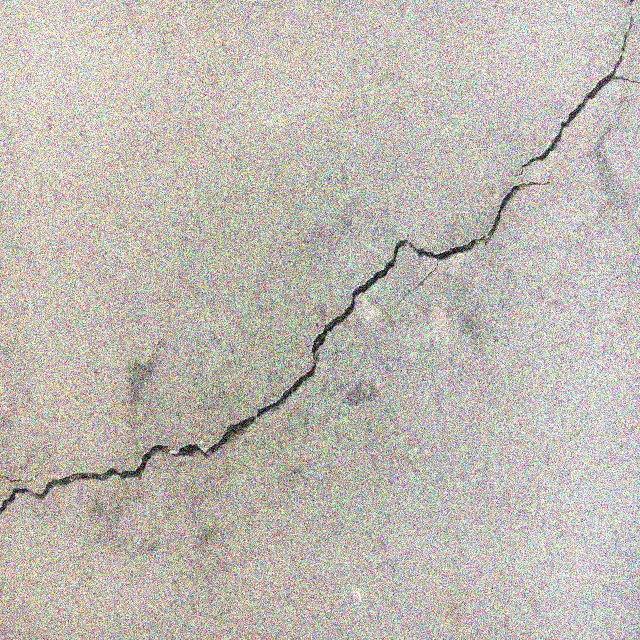SurfaceCrack: (1, 0, 639, 591)
